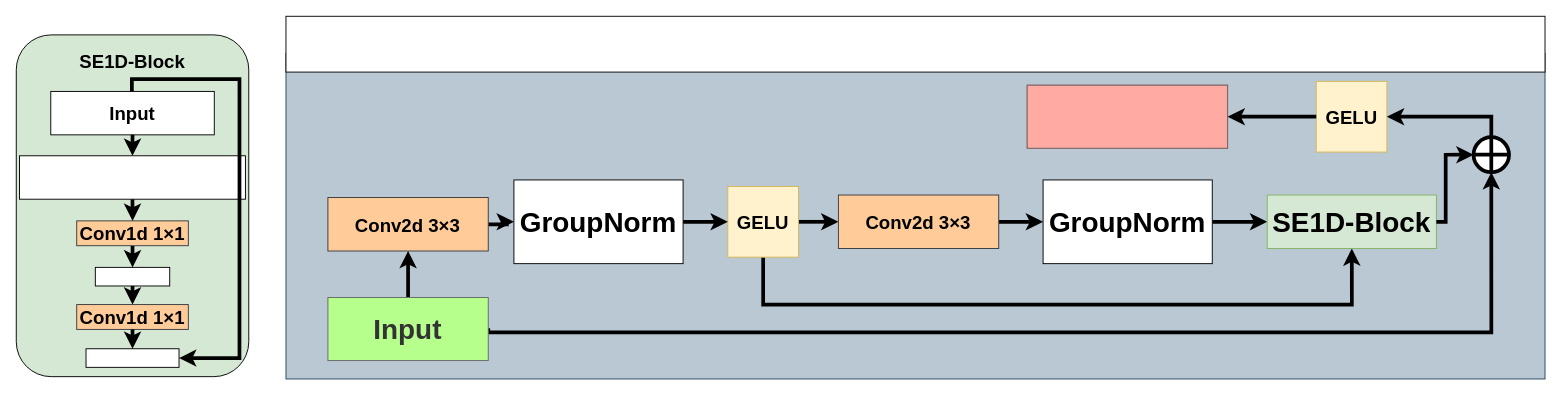
This 1561x395 diagram has some shape labels left out. Here are the shapes that lost their labels. From the top down, the centre of each, then its label:
point 915,43: Residual-SE-Block
point 1127,116: Output
point 132,177: AdaptiveAvgPool1d(1)
point 132,276: ReLU
point 132,357: Sigmoid
